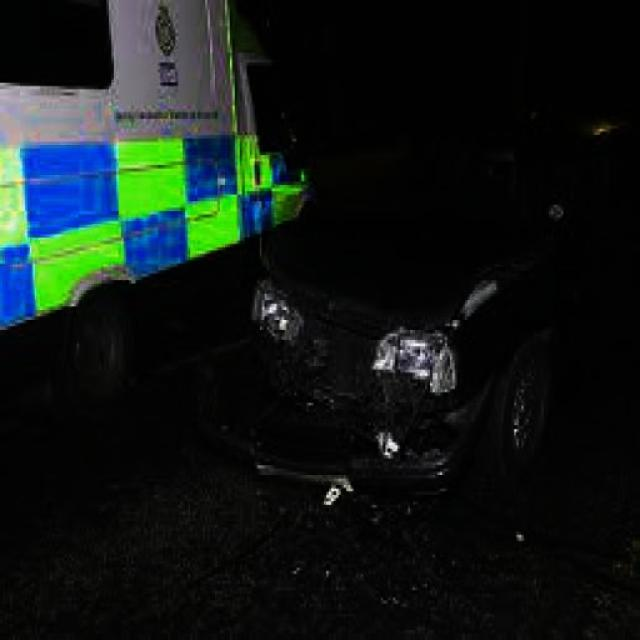car damage: (195, 243, 512, 497)
